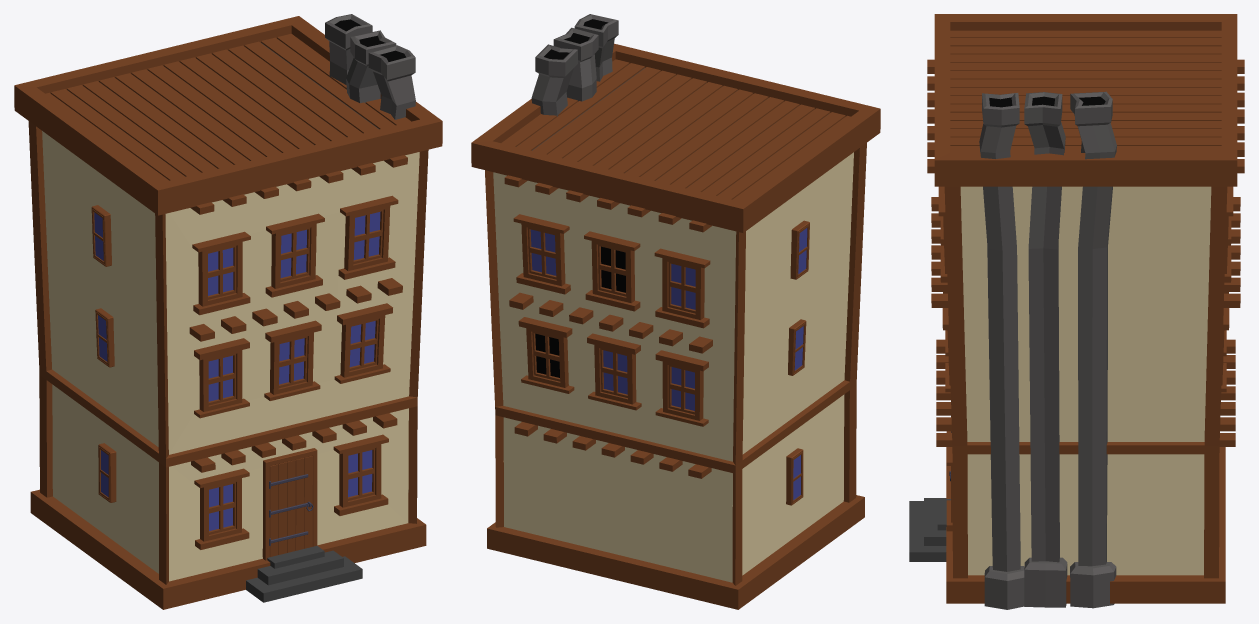
The model's file is House_City_Highrise_01.fbx.
3 views of the same model, side by side, from view 1: azimuth 30°, elevation 25°; view 2: azimuth 150°, elevation 25°; view 3: azimuth 270°, elevation 25° (orthographic). The views are drawn at different scales.
Parts seen in each view (by area): view 1: SM_Highrise_01; view 2: SM_Highrise_01; view 3: SM_Highrise_01.
Part boxes in pixels (x1=…): SM_Highrise_01: x1=14, y1=14, x2=442, y2=609; SM_Highrise_01: x1=471, y1=14, x2=880, y2=609; SM_Highrise_01: x1=909, y1=14, x2=1244, y2=609.
Size of the model in its own units: 798 by 1276 by 773.
